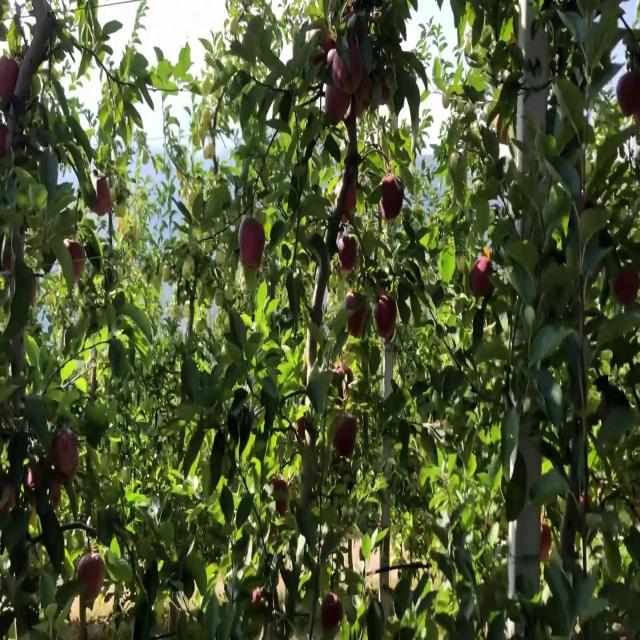apple: (28, 462, 63, 512), (336, 42, 364, 92), (52, 433, 80, 482), (240, 220, 267, 270), (32, 469, 63, 512), (612, 263, 640, 309), (80, 554, 105, 603), (616, 71, 640, 119), (376, 291, 398, 341), (324, 85, 350, 126), (348, 291, 369, 341), (380, 177, 404, 220), (472, 255, 494, 300), (0, 56, 20, 105), (336, 184, 358, 228), (336, 419, 359, 460), (332, 362, 355, 402), (92, 177, 113, 219), (336, 234, 359, 272), (312, 35, 336, 71), (344, 7, 369, 41), (324, 590, 344, 631), (44, 469, 63, 512), (68, 241, 87, 281), (356, 78, 374, 119), (316, 35, 337, 69), (272, 483, 289, 517), (376, 71, 392, 107), (4, 476, 17, 519), (540, 519, 552, 565), (496, 113, 510, 146), (352, 14, 369, 39), (52, 476, 63, 512), (4, 248, 18, 276), (4, 248, 15, 274), (72, 597, 81, 628), (356, 21, 369, 41), (296, 419, 307, 441), (600, 398, 608, 427), (252, 590, 264, 606), (32, 277, 39, 304), (4, 127, 9, 155)
